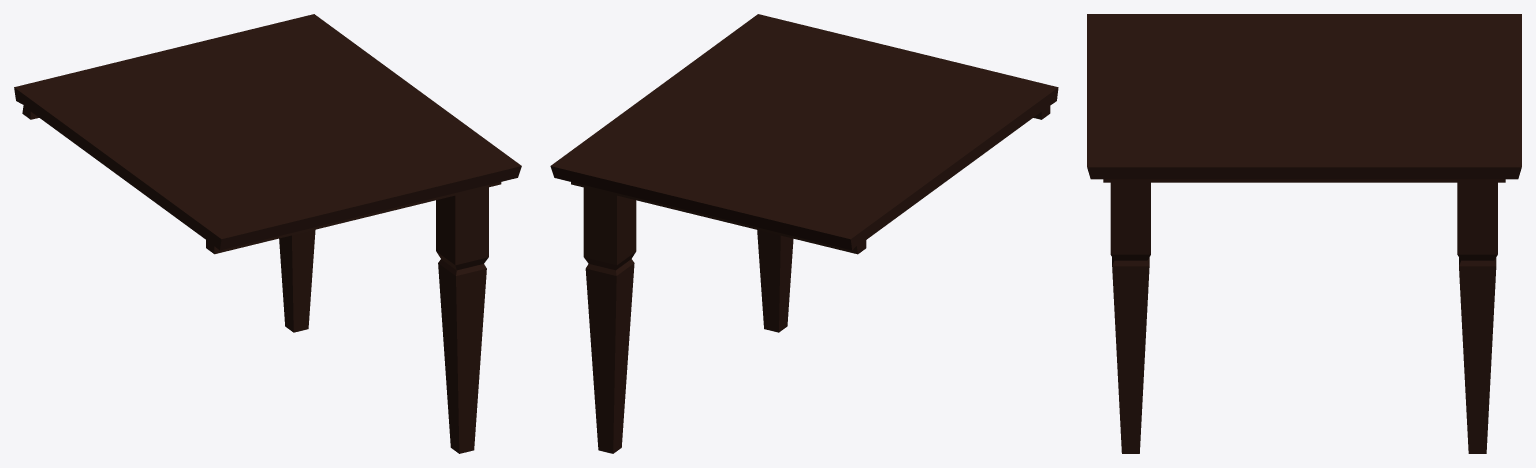
Rendered from TableRight.fbx.
The picture shows the model from 3 angles, left to right: view 1: azimuth 30°, elevation 25°; view 2: azimuth 150°, elevation 25°; view 3: azimuth 270°, elevation 25°; orthographic projection. The views are drawn at different scales.
Visible parts, largest first — view 1: Куб.002; view 2: Куб.002; view 3: Куб.002.
Boxes of the visible parts, left/top/right/bottom form: Куб.002: left=14, top=14, right=521, bottom=453; Куб.002: left=550, top=14, right=1058, bottom=453; Куб.002: left=1087, top=14, right=1521, bottom=453.
Bounding box in the file's own units: 501 × 461 × 600.
